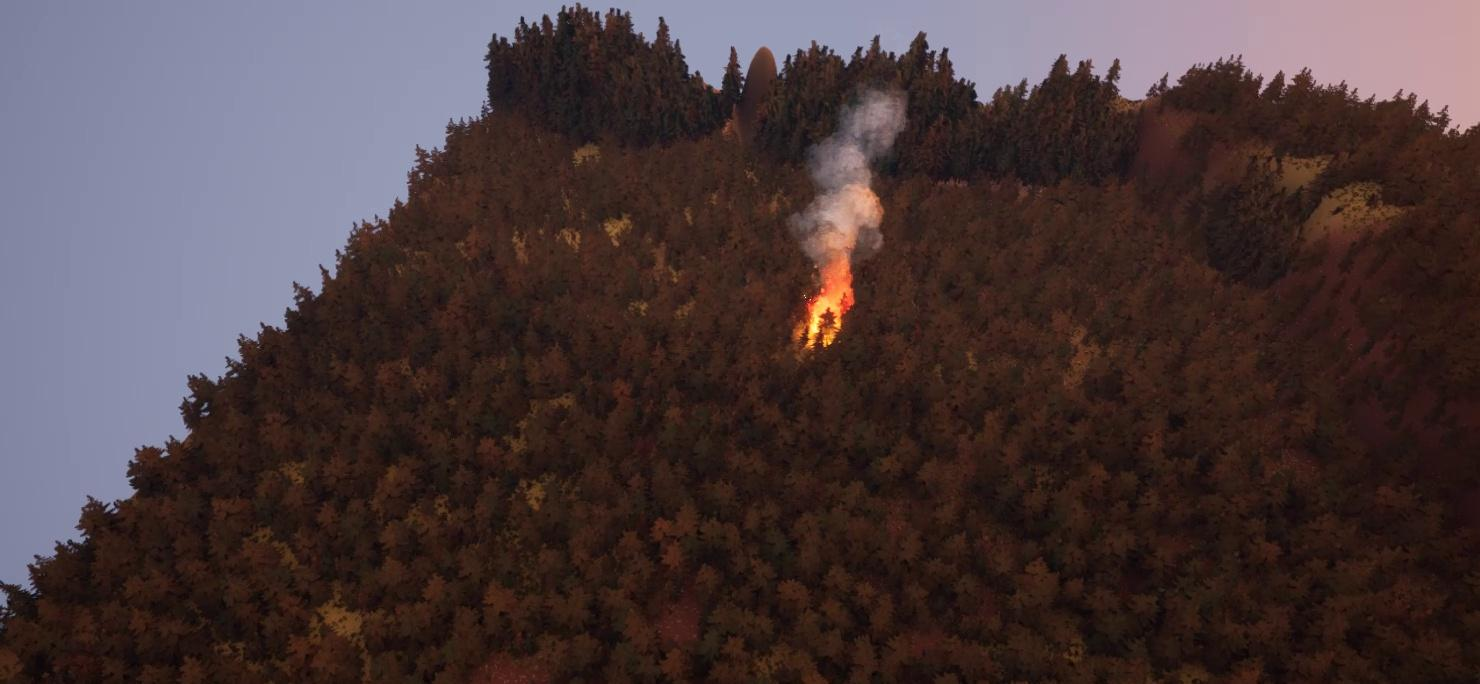fire: (790, 263, 859, 350)
smoke: (788, 88, 906, 270)
